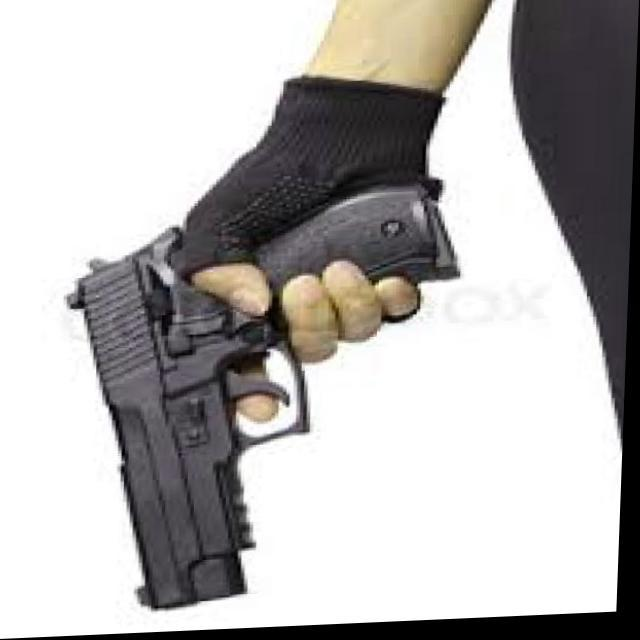weapon: (53, 176, 465, 617)
